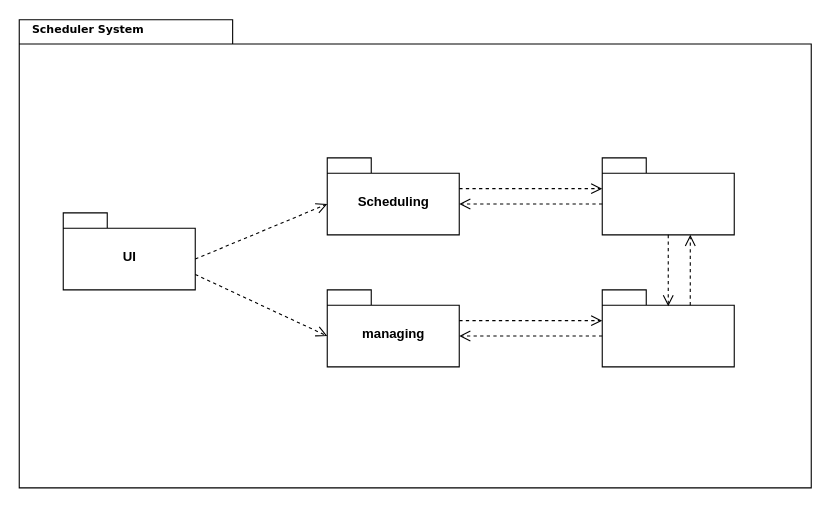
Image size: 831x507. Some labels were removed from this diagram. The shapes that lost their labels are listed below. From the top down, each one's centre as x and y in pixels, then its label:
At (667,196): "ScheduleDB".
At (667,328): "UserDB".
